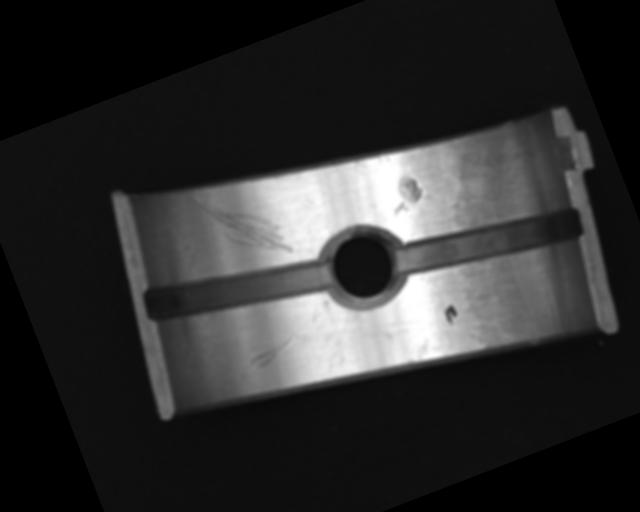blot: (441, 302, 461, 326)
bruise: (383, 171, 428, 216)
gap: (141, 227, 336, 352), (392, 184, 587, 302)
hole: (316, 218, 412, 317)
nick: (190, 170, 295, 280), (247, 331, 310, 370)
